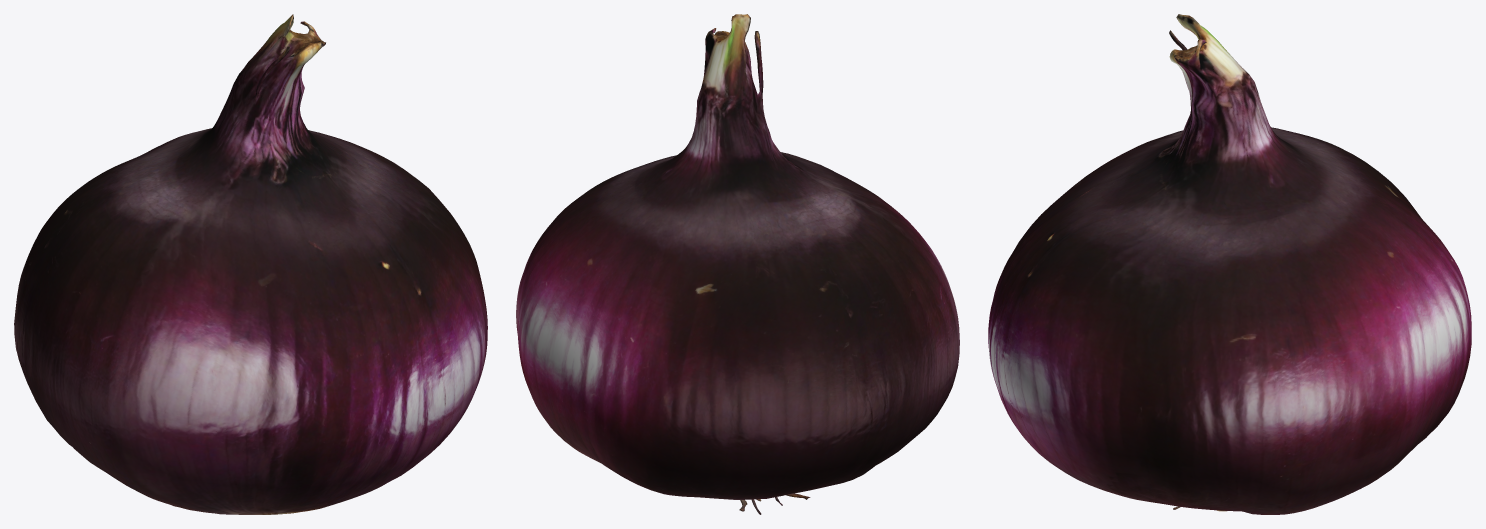
File: onion.glb
The picture shows the model from 3 angles, left to right: view 1: azimuth 30°, elevation 25°; view 2: azimuth 150°, elevation 25°; view 3: azimuth 270°, elevation 25°; orthographic projection. The views are drawn at different scales.
Visible parts, largest first — view 1: Mesh1_Mesh1.076; view 2: Mesh1_Mesh1.076; view 3: Mesh1_Mesh1.076.
Part boxes in pixels (box(x1,y1,x2,y2)): Mesh1_Mesh1.076: box(14, 14, 487, 514); Mesh1_Mesh1.076: box(516, 14, 959, 514); Mesh1_Mesh1.076: box(988, 14, 1471, 514).
Size of the model in its own units: 1.76 by 1.96 by 1.78.
Materials: 1 (1 with a texture image).
